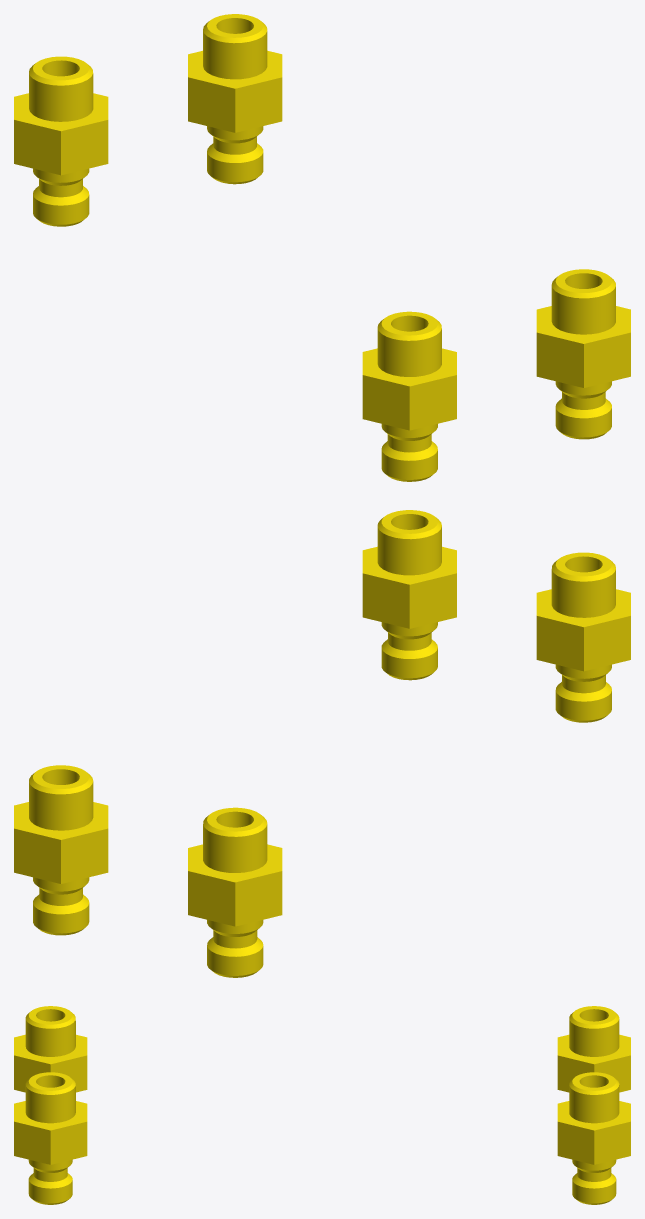
Rendered from connector.glb.
3 views of the same model, one above another, from view 1: azimuth 30°, elevation 25°; view 2: azimuth 150°, elevation 25°; view 3: azimuth 270°, elevation 25° (orthographic). The views are drawn at different scales.
Parts seen in each view (by area): view 1: cardcase_connector_092 (×2), cardcase_connector_098 (×2); view 2: cardcase_connector_098 (×2), cardcase_connector_092 (×2); view 3: cardcase_connector_098 (×2), cardcase_connector_092 (×2).
Part boxes in pixels (bbox=[...]): cardcase_connector_092 (×2): bbox=[362, 269, 630, 481]; cardcase_connector_098 (×2): bbox=[14, 14, 282, 226]; cardcase_connector_098 (×2): bbox=[14, 765, 282, 977]; cardcase_connector_092 (×2): bbox=[362, 510, 630, 722]; cardcase_connector_098 (×2): bbox=[557, 1006, 630, 1204]; cardcase_connector_092 (×2): bbox=[14, 1006, 87, 1204].
Bounding box in the file's own units: 0.0493 × 0.026 × 0.126.
